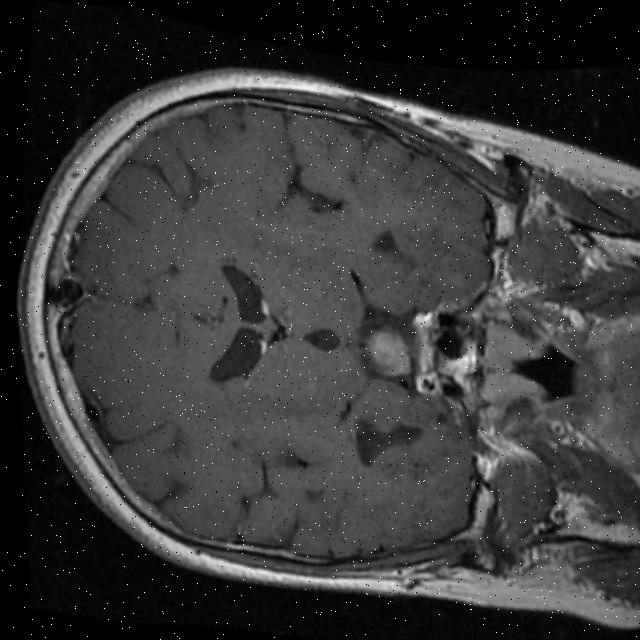Pituitary: (364, 322, 414, 381)
